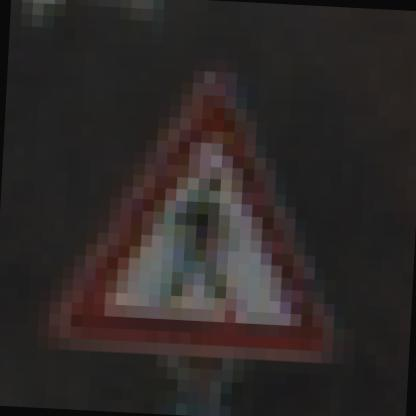crosswalk: (29, 68, 352, 398)
